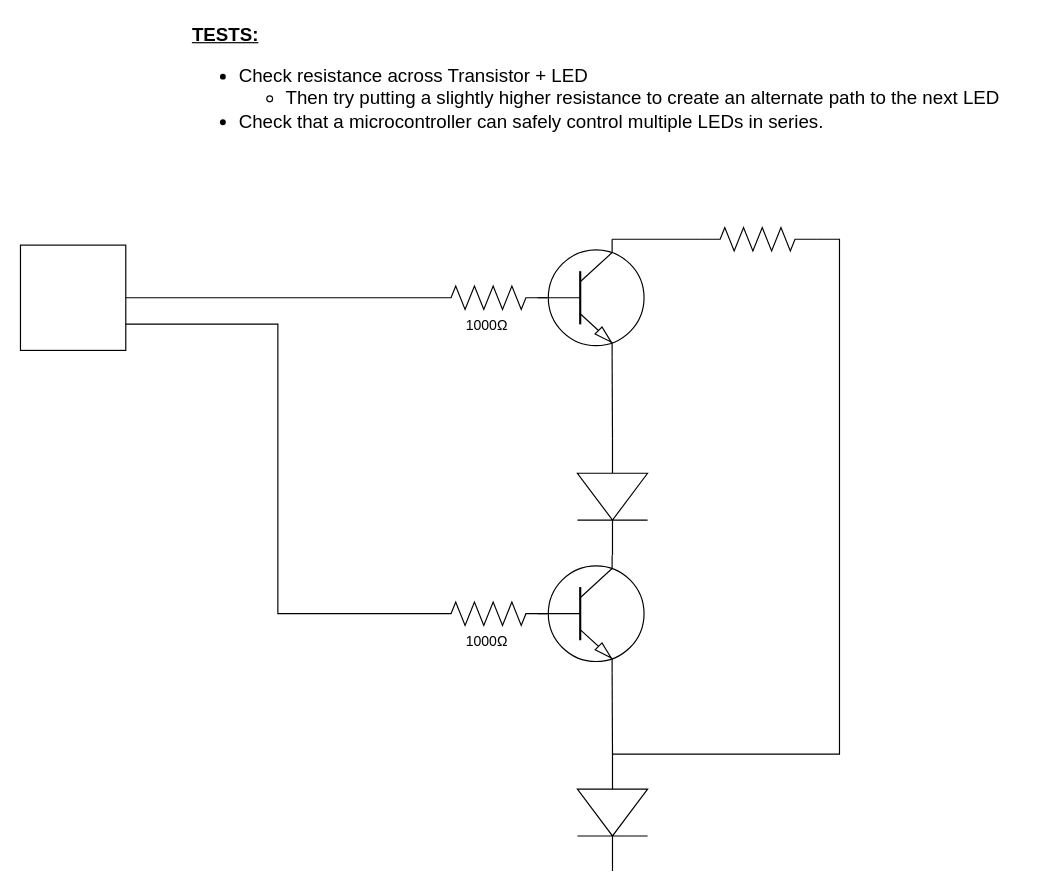
Image size: 1041x892. Some labels were removed from this diagram. The shapes that lost their labels are listed below. From the top down, each one's centre as x and y in pixels, then its label:
the point at 757,238: WHAT VALUE SHOULD BE HERE ? Ω OR WILL THIS EVEN WORK?
the point at 72,297: Controller OR MATRIX ?
